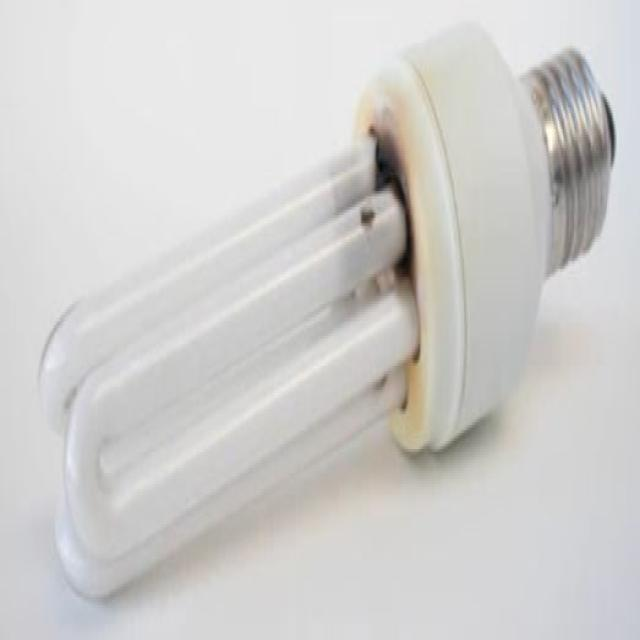electronic: (37, 16, 616, 600), (352, 16, 616, 455)
